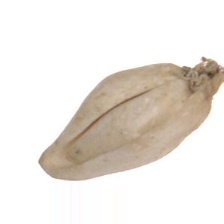L1: (178, 59, 220, 111), (35, 148, 61, 179)
L2: (36, 59, 219, 181)
